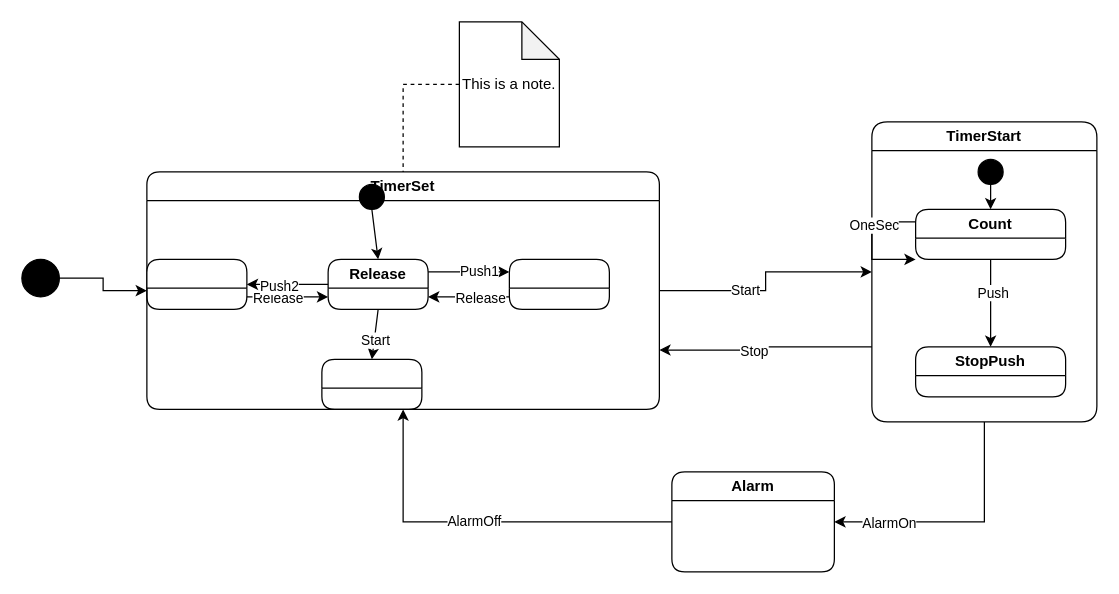
This 1119x594 diagram has some shape labels left out. The shapes that lost their labels are listed below. From the top down, each one's centre as x and y in pixels, then its label:
point 196,283: SecPush
point 558,283: MinPush
point 371,383: StartPush
